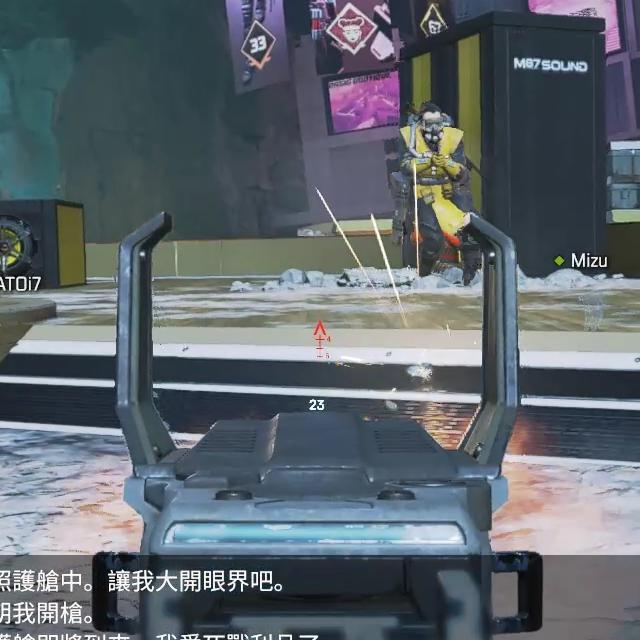avatar: (392, 103, 471, 278)
